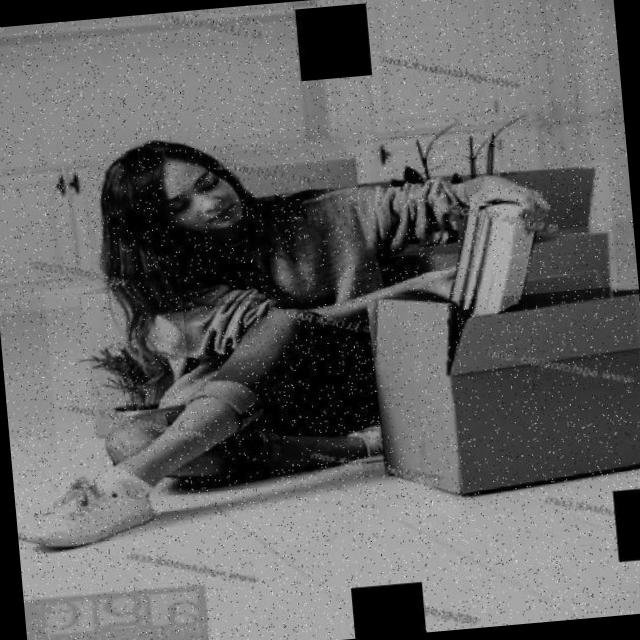box: (349, 284, 640, 509), (427, 161, 622, 342), (43, 278, 194, 450), (216, 125, 370, 224)
